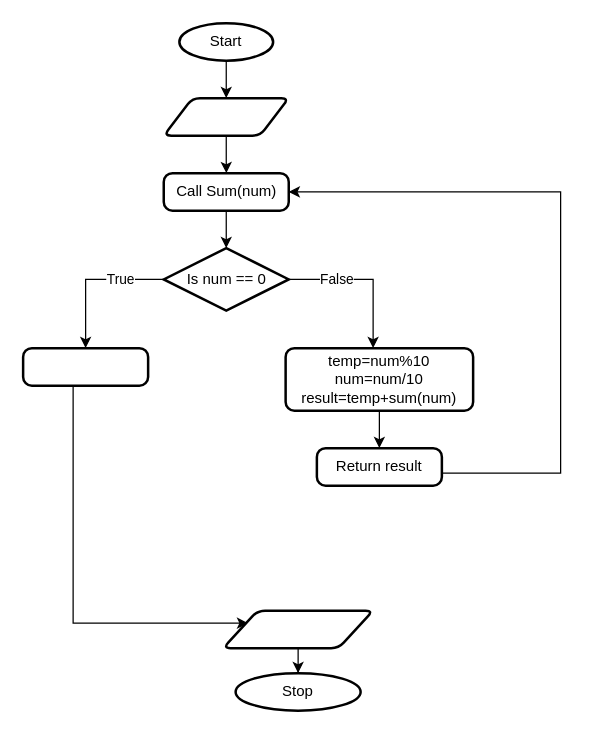
Image size: 593x733. Some labels were removed from this diagram. The centre of each missing label's shape, as x and y in pixels:
"print Sum(num)" belongs at (297,629).
"Read num" belongs at (225,116).
"Return 0" belongs at (85,366).
